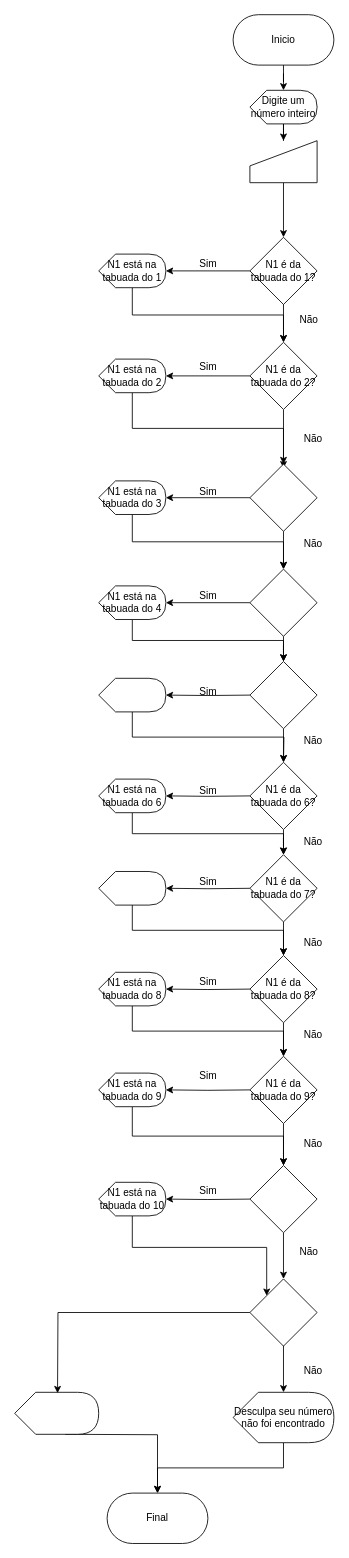
Image size: 349x1558. Some labels were removed from this diagram. The shapes that lost their labels are listed below. From the top down, each one's centre as x and y in pixels, then its label:
At [283,161]: "N1".
At [283,497]: "N1 é da tabuada do 3?".
At [283,602]: "N1 é da tabuada do 4?".
At [132,694]: "N1 está na tabuada do 5".
At [283,695]: "N1 é da tabuada do 5?".
At [132,888]: "N1 está na tabuada do 7".
At [283,1199]: "N1 é da tabuada do 10".
At [283,1312]: "Encontrou uma tabuada que tem esse número?".
At [56,1412]: "Mostrar a tabuado que o número aparece".
